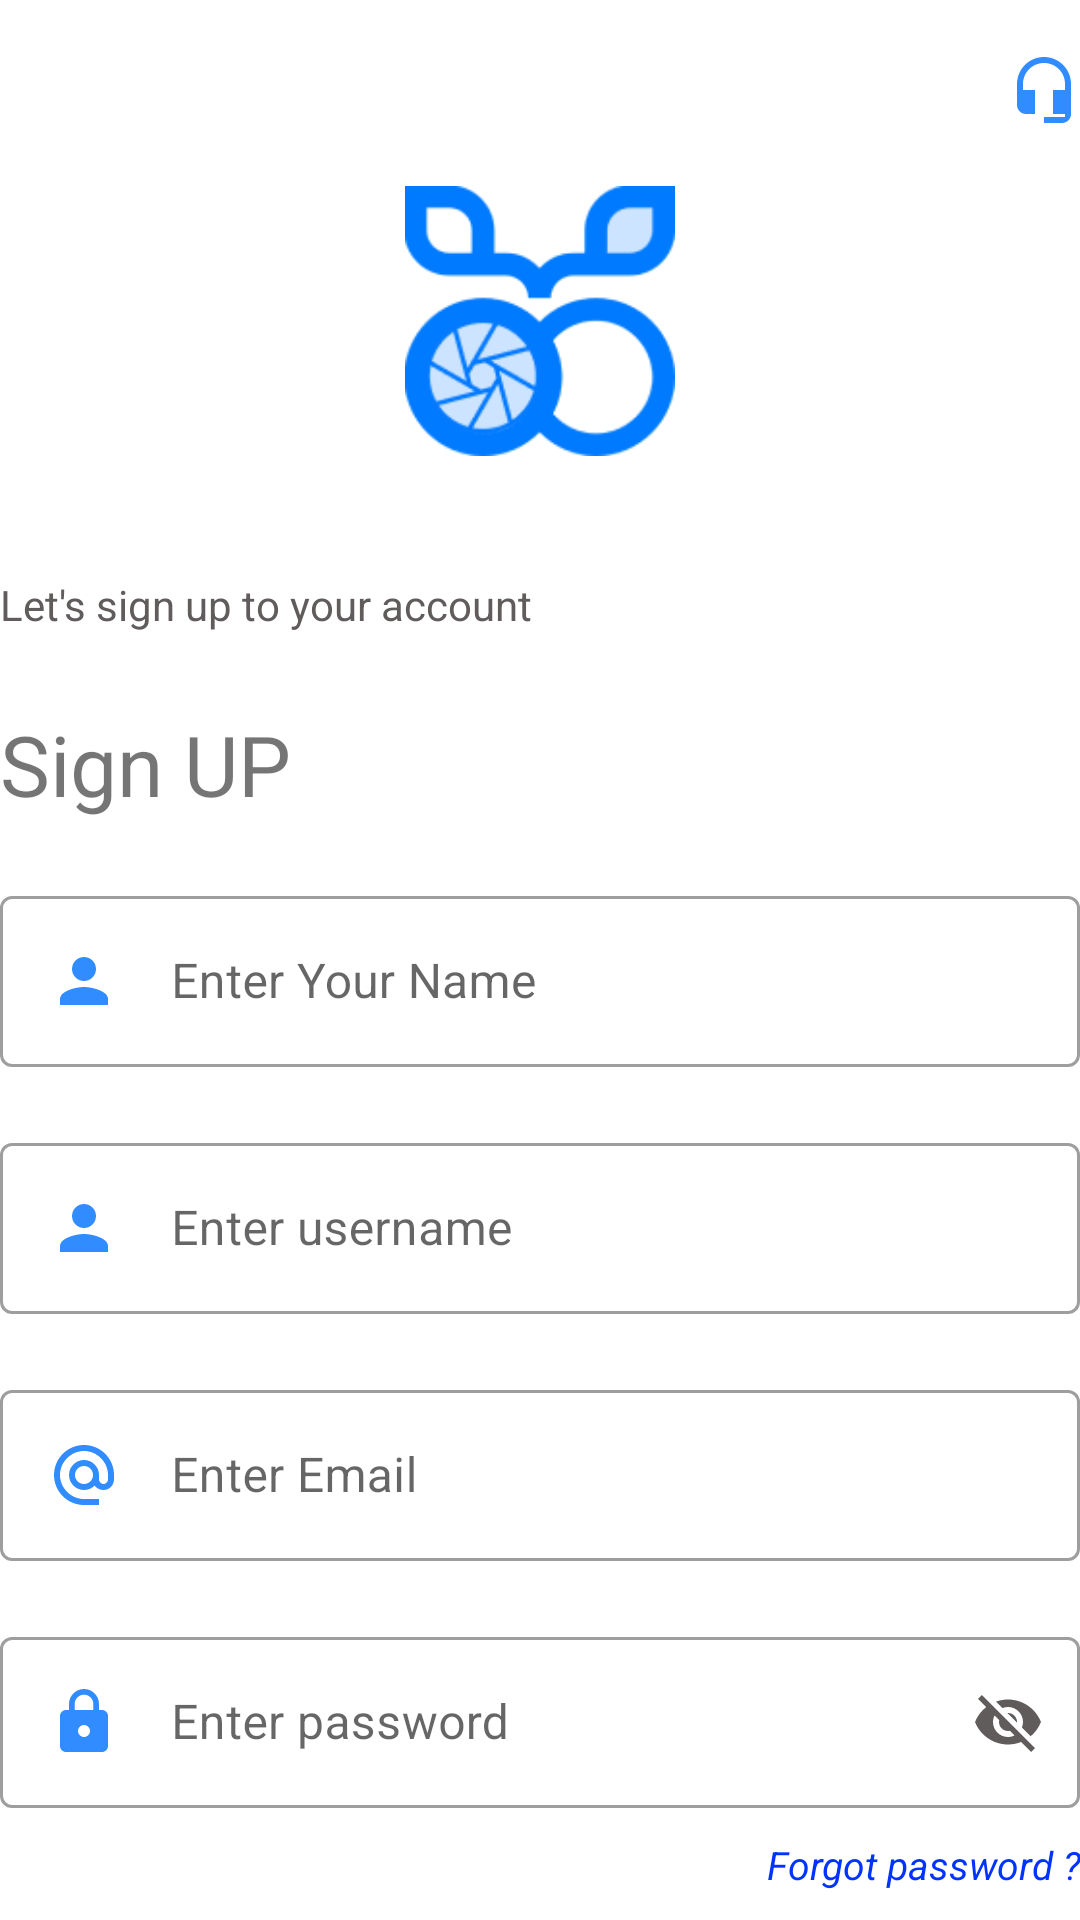

Icon click points for this 1080px×1920px phone screenshot, format [x,y]:
headset mic: [1044,90]
